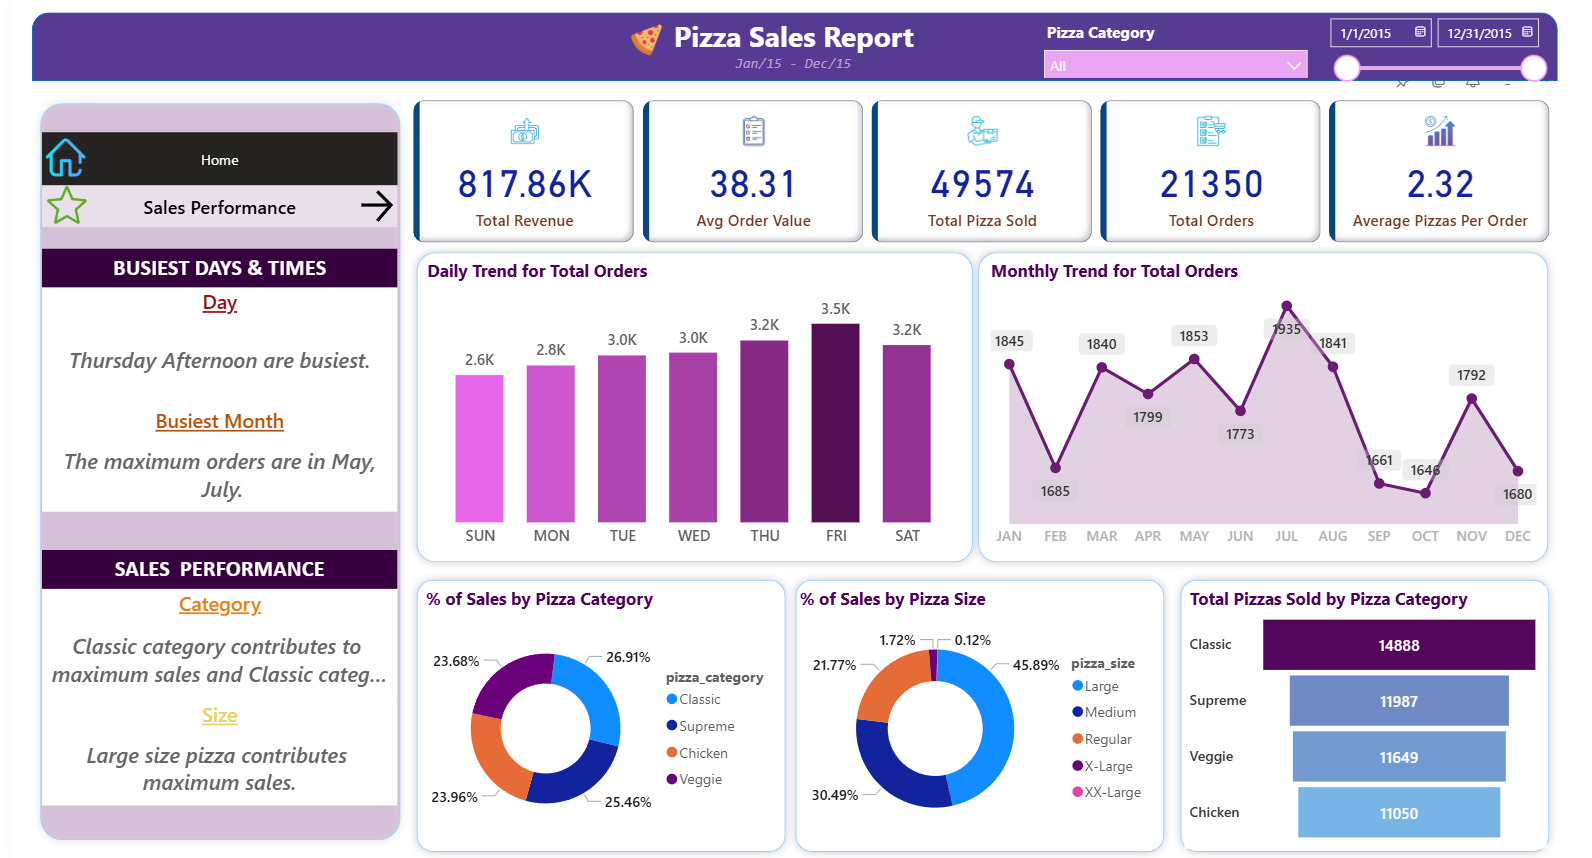

The dashboard page shown, as its layout file describes it:
{"tool":"powerbi","page":{"name":"Home","canvas":[1500,820],"ordinal":0},"visuals":[{"type":"shape","box":[18.6,94.3,357.1,714.3],"z":0},{"type":"cardVisual","fields":{"Data":["pizza_sales.Total Revenue","pizza_sales.Avg Order Value","pizza_sales.Total Pizza Sold","pizza_sales.Total Orders","pizza_sales.Average Pizzas Per Order"]},"box":[375.7,94.3,1090,145.7],"z":1000},{"type":"shape","box":[18.8,16.2,1446.2,65],"z":2000},{"type":"textbox","box":[612.9,15.7,257.1,47.1],"z":3000},{"type":"textbox","box":[667.1,50,147.1,31.4],"z":4000},{"type":"image","box":[573.6,22.3,55.9,40.5],"z":5000},{"type":"shape","box":[375.7,235.3,543.3,310],"z":6000},{"type":"columnChart","title":"Daily Trend for Total Orders ","fields":{"Category":["pizza_sales.Order Day"],"Y":["pizza_sales.Total Orders"]},"box":[388.2,249.5,516.2,283.1],"z":7000},{"type":"shape","box":[907.8,235.9,556.7,310],"z":8000},{"type":"areaChart","title":"Monthly Trend for Total Orders","fields":{"Category":["pizza_sales.Order Month"],"Y":["pizza_sales.Total Orders"]},"box":[922.8,250.3,527.3,282.7],"z":9000},{"type":"shape","box":[375.7,545.7,365.7,274.3],"z":10000},{"type":"shape","box":[734.3,545.7,365.7,274.3],"z":11000},{"type":"shape","box":[1100,545.7,365.7,274.3],"z":12000},{"type":"donutChart","title":"% of Sales by Pizza Category","fields":{"Category":["pizza_sales.pizza_category"],"Y":["pizza_sales.Total Revenue"]},"box":[387.1,560,347.1,248.6],"z":13000},{"type":"donutChart","title":"% of Sales by Pizza Size","fields":{"Y":["pizza_sales.Total Revenue"],"Category":["pizza_sales.pizza_size"]},"box":[741.4,560,347.1,248.6],"z":14000},{"type":"funnel","title":"Total Pizzas Sold by Pizza Category","fields":{"Category":["pizza_sales.pizza_category"],"Y":["pizza_sales.Total Pizza Sold"]},"box":[1111.4,560,342.9,248.6],"z":15000},{"type":"textbox","box":[28.6,240,337.1,37.1],"z":16000},{"type":"slicer","fields":{"Values":["pizza_sales.pizza_category"]},"box":[968.6,20,270,58.6],"z":17000},{"type":"slicer","fields":{"Values":["pizza_sales.order_date"]},"box":[1237.6,11.8,226.6,82.8],"z":18000},{"type":"card","title":"Category","fields":{"Values":["pizza_sales.Narrative Category Detail"]},"box":[28.6,562.9,337.1,105.7],"z":19000},{"type":"card","title":"Size","fields":{"Values":["pizza_sales.Narrative Size Detail"]},"box":[28.6,668.6,337.1,100],"z":20000},{"type":"textbox","box":[28.6,525.7,337.1,37.1],"z":21000},{"type":"card","title":"Day","fields":{"Values":["pizza_sales.Narrative Busy DayPart"]},"box":[28.6,277.1,337.1,114.3],"z":22000},{"type":"card","title":"Busiest Month","fields":{"Values":["pizza_sales.Narrative Busiest Month"]},"box":[28.6,390,337.1,100],"z":23000},{"type":"pageNavigator","box":[28.6,130,337.1,50],"z":24000},{"type":"actionButton","box":[28.6,180,337.1,40],"z":25000},{"type":"image","box":[27.5,127.5,47.5,52.5],"z":26000},{"type":"image","box":[28.1,175.6,47.8,47.8],"z":27000}]}

Visuals, with their boxes on the page's 1500x820 design canvas (x1, y1, x2, y2). These are canvas units, not pixel positions in the 1592x858 screenshot, which may show the page scaled, cropped or inside an application window:
shape: bbox(19, 94, 376, 809)
cardVisual - pizza_sales.Total Revenue x pizza_sales.Avg Order Value: bbox(376, 94, 1466, 240)
shape: bbox(19, 16, 1465, 81)
textbox: bbox(613, 16, 870, 63)
textbox: bbox(667, 50, 814, 81)
image: bbox(574, 22, 630, 63)
shape: bbox(376, 235, 919, 545)
"Daily Trend for Total Orders " columnChart: bbox(388, 250, 904, 533)
shape: bbox(908, 236, 1464, 546)
"Monthly Trend for Total Orders" areaChart: bbox(923, 250, 1450, 533)
shape: bbox(376, 546, 741, 820)
shape: bbox(734, 546, 1100, 820)
shape: bbox(1100, 546, 1466, 820)
"% of Sales by Pizza Category" donutChart: bbox(387, 560, 734, 809)
"% of Sales by Pizza Size" donutChart: bbox(741, 560, 1088, 809)
"Total Pizzas Sold by Pizza Category" funnel: bbox(1111, 560, 1454, 809)
textbox: bbox(29, 240, 366, 277)
slicer - pizza_sales.pizza_category: bbox(969, 20, 1239, 79)
slicer - pizza_sales.order_date: bbox(1238, 12, 1464, 95)
"Category" card: bbox(29, 563, 366, 669)
"Size" card: bbox(29, 669, 366, 769)
textbox: bbox(29, 526, 366, 563)
"Day" card: bbox(29, 277, 366, 391)
"Busiest Month" card: bbox(29, 390, 366, 490)
pageNavigator: bbox(29, 130, 366, 180)
actionButton: bbox(29, 180, 366, 220)
image: bbox(28, 128, 75, 180)
image: bbox(28, 176, 76, 223)
